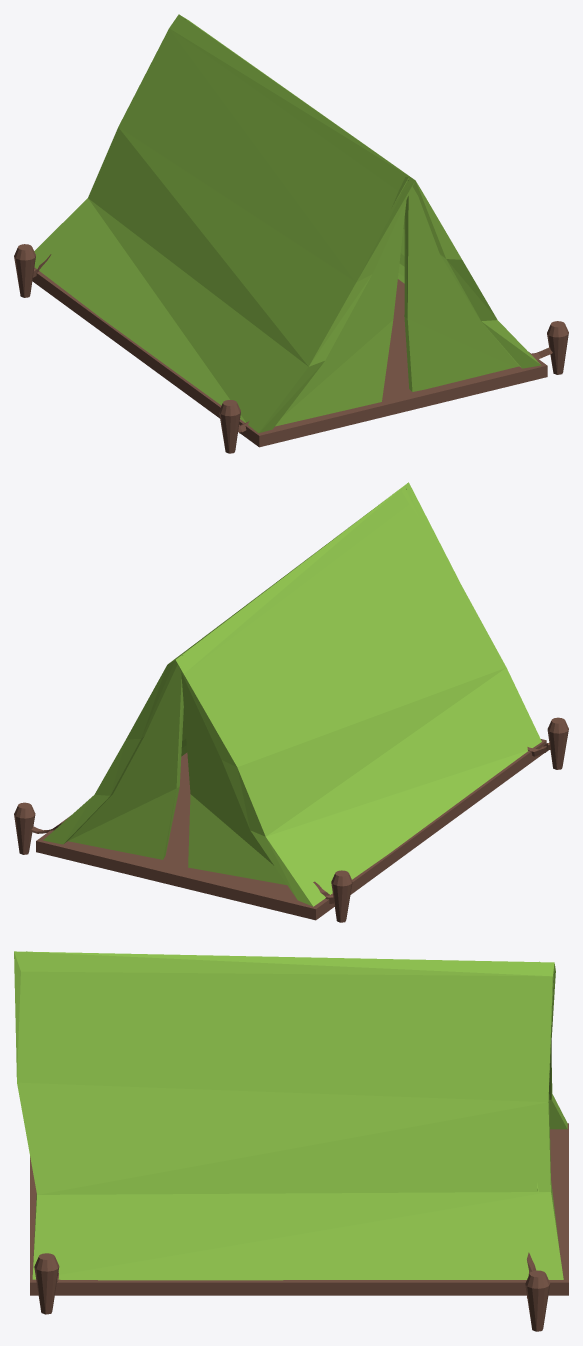
File: Tent.glb
The picture shows the model from 3 angles, top to bottom: view 1: azimuth 30°, elevation 25°; view 2: azimuth 150°, elevation 25°; view 3: azimuth 270°, elevation 25°; orthographic projection. The views are drawn at different scales.
Visible parts, largest first — view 1: Node; view 2: Node; view 3: Node.
Part boxes in pixels (<box>): Node: <box>14,14,568,453</box>; Node: <box>14,482,568,922</box>; Node: <box>14,951,568,1331</box>.
Size of the model in its own units: 1.29 by 0.8807 by 1.54.
